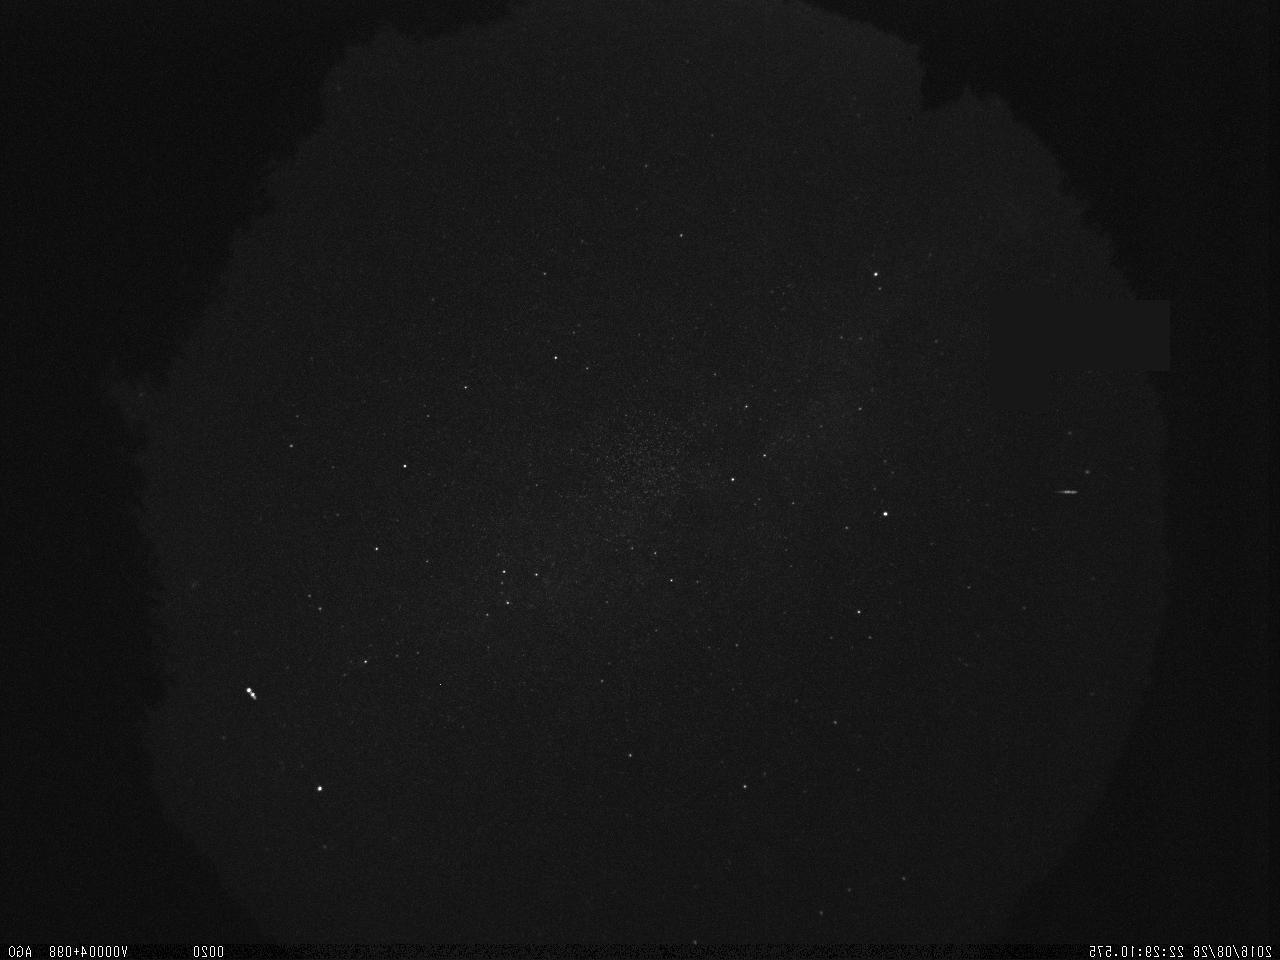meteor: (1045, 481, 1085, 503)
